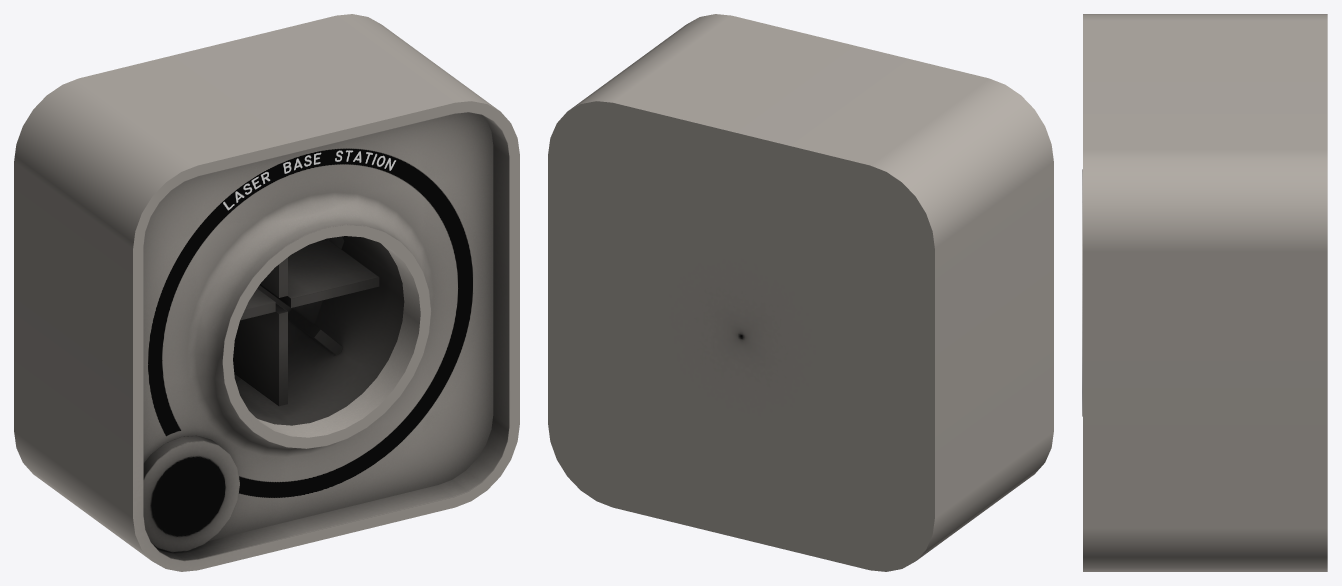
Rendered from generic_tracker.obj.
3 views of the same model, side by side, from view 1: azimuth 30°, elevation 25°; view 2: azimuth 150°, elevation 25°; view 3: azimuth 270°, elevation 25° (orthographic). The views are drawn at different scales.
Parts seen in each view (by area): view 1: generic_tracker_generic_tracker_mesh; view 2: generic_tracker_generic_tracker_mesh; view 3: generic_tracker_generic_tracker_mesh.
Part boxes in pixels (<box>): generic_tracker_generic_tracker_mesh: <box>14,14,519,571</box>; generic_tracker_generic_tracker_mesh: <box>548,14,1053,571</box>; generic_tracker_generic_tracker_mesh: <box>1082,14,1327,571</box>.
Bounding box in the file's own units: 0.1001 × 0.1001 × 0.0535.
1 material, 1 textured.
